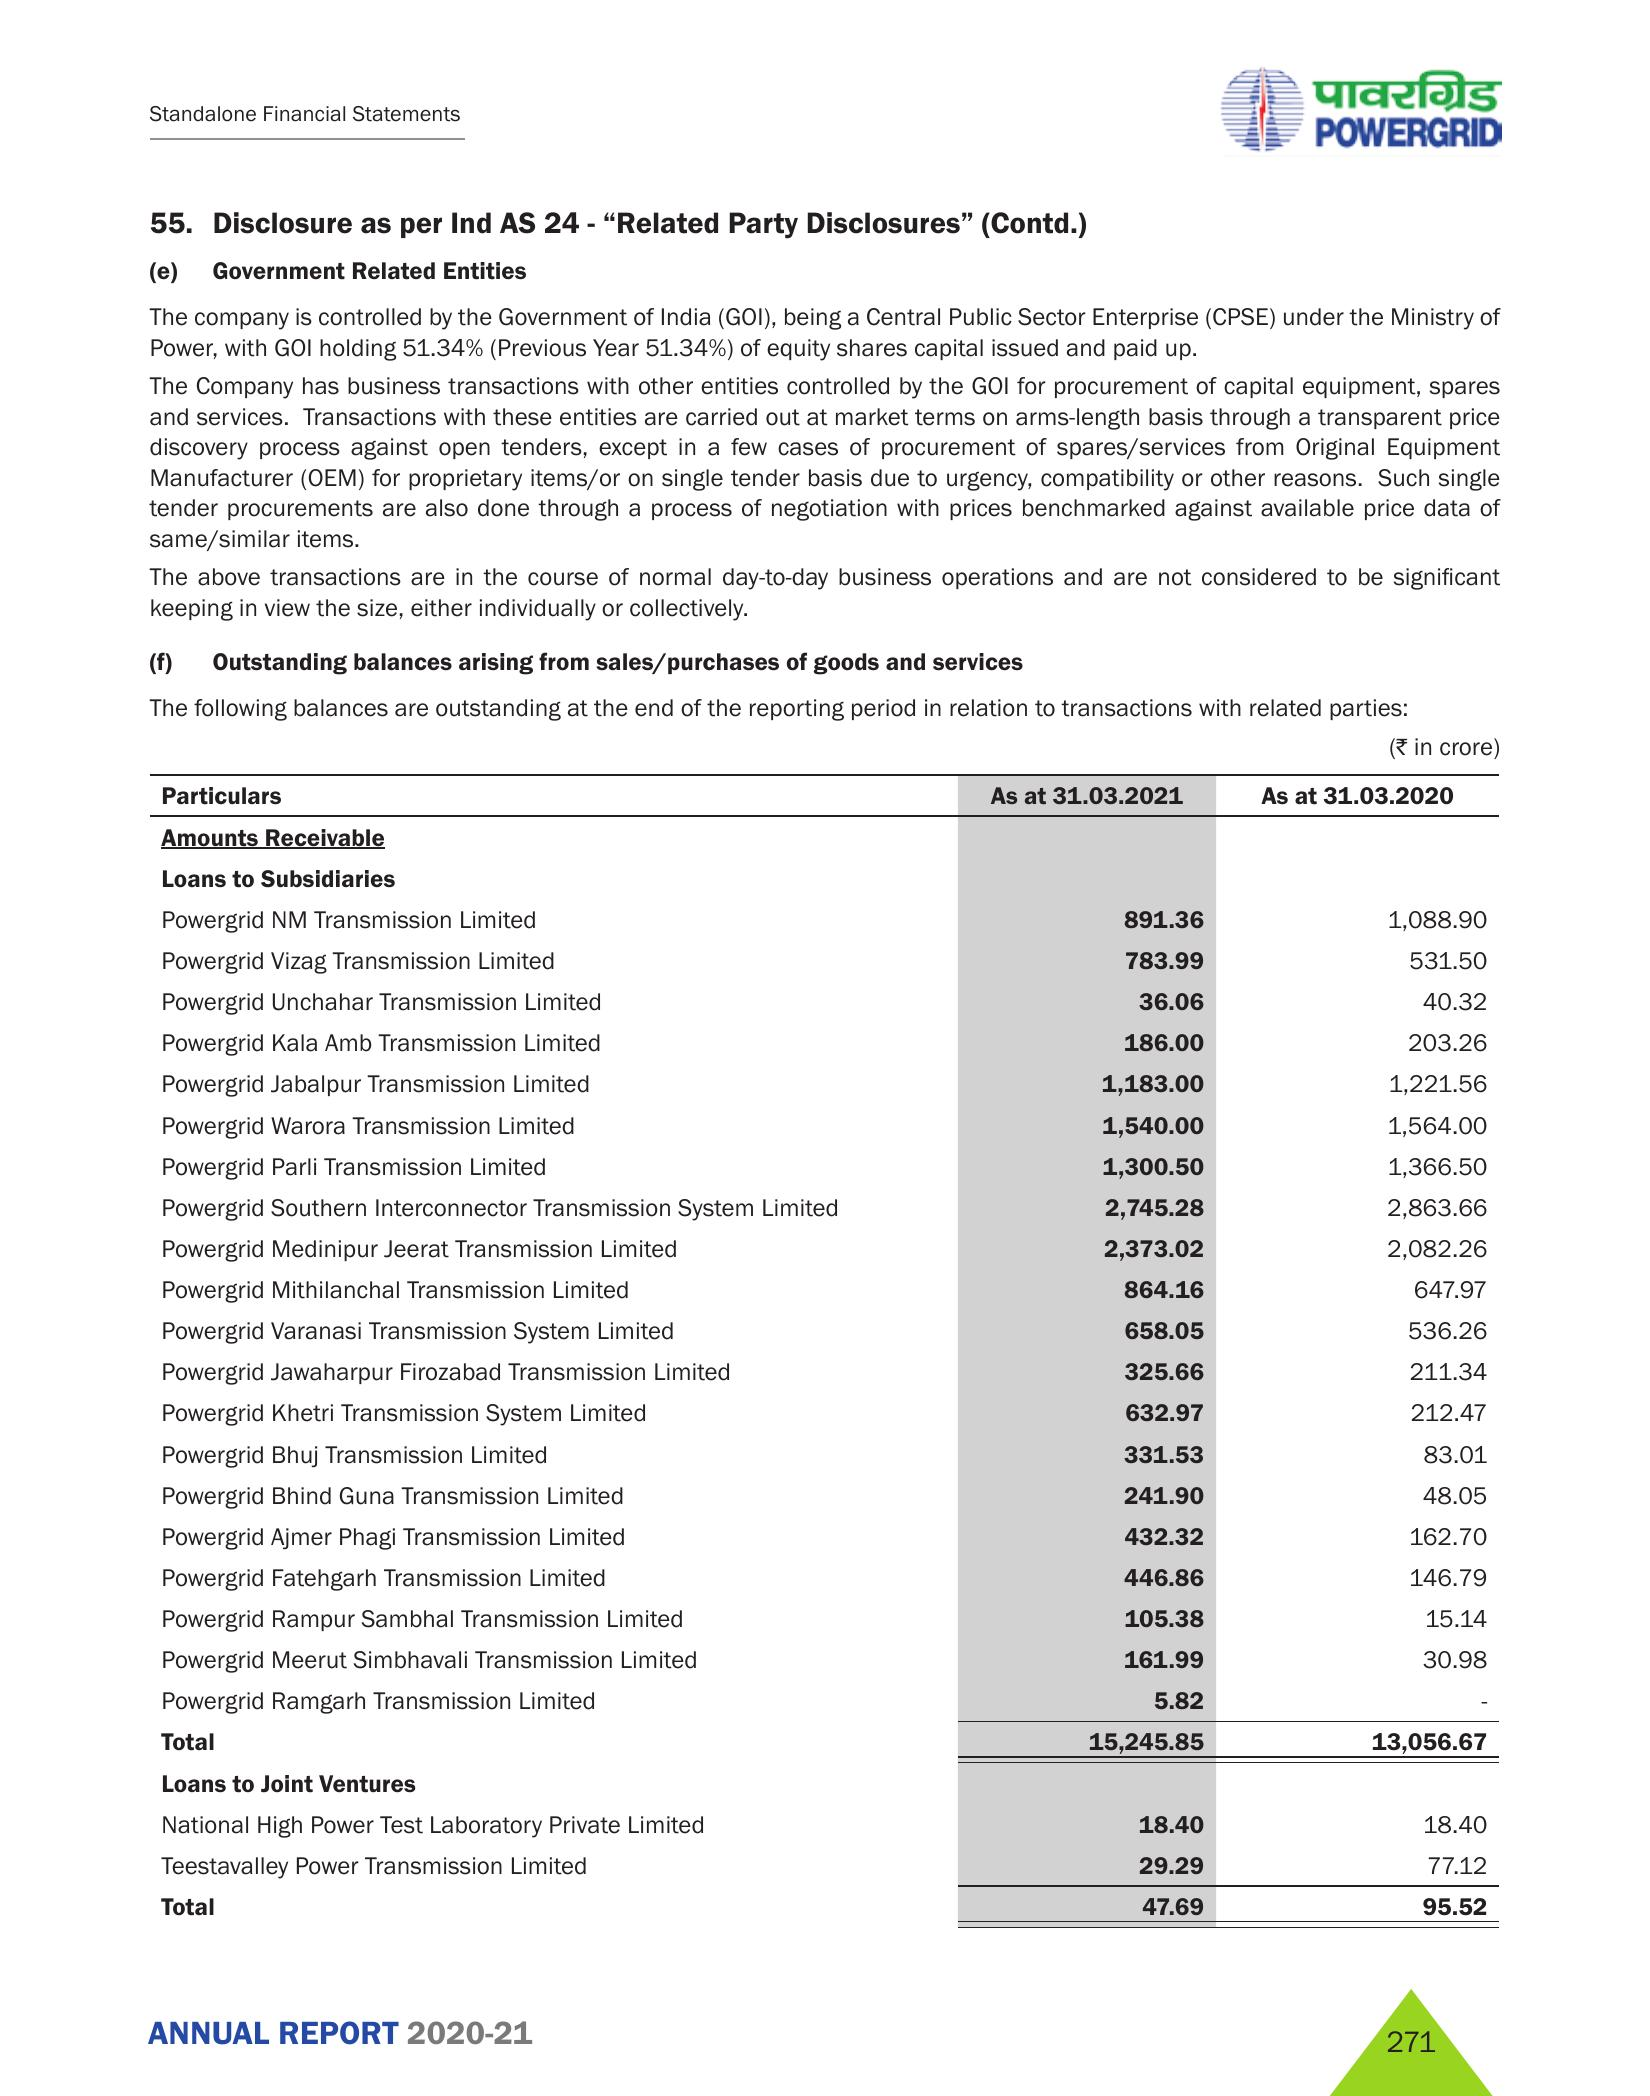Footer: (0, 1962, 1650, 2096)
Header: (0, 0, 1650, 172)
Table: (134, 772, 1521, 1924)
